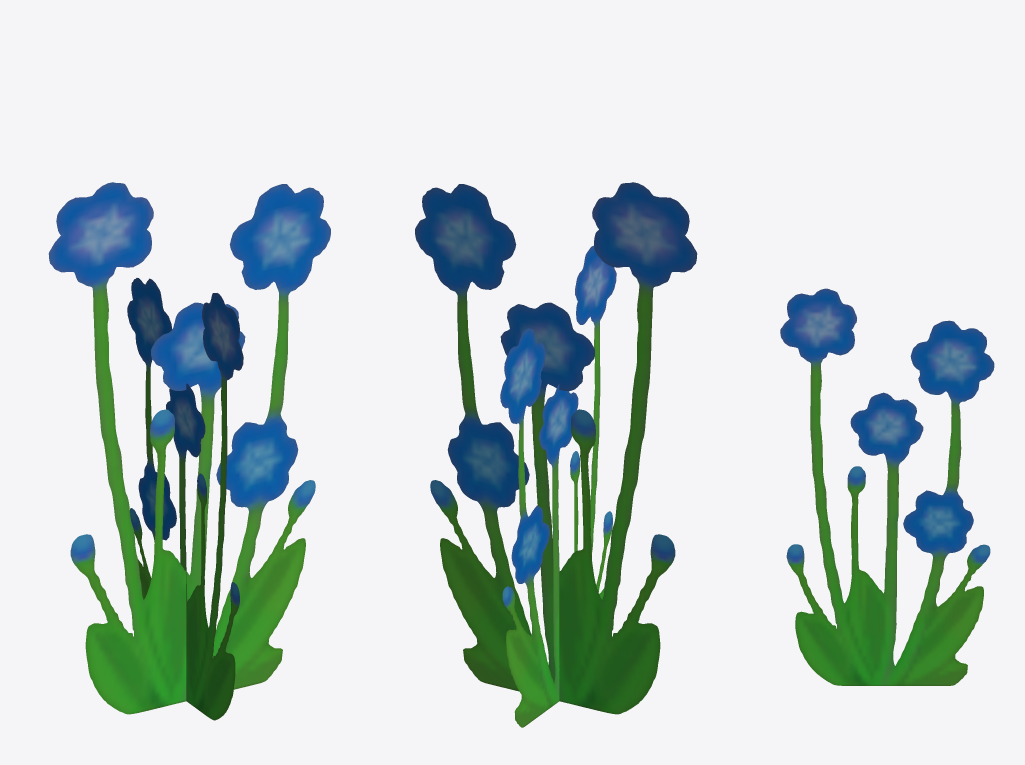
The model's file is Flower02_b01.FBX.
3 views of the same model, side by side, from view 1: azimuth 30°, elevation 25°; view 2: azimuth 150°, elevation 25°; view 3: azimuth 270°, elevation 25° (orthographic). The views are drawn at different scales.
Parts seen in each view (by area): view 1: Flower02_b01; view 2: Flower02_b01; view 3: Flower02_b01.
Boxes of the visible parts, left/top/right/bottom form: Flower02_b01: left=48, top=182, right=330, bottom=720; Flower02_b01: left=415, top=182, right=697, bottom=727; Flower02_b01: left=780, top=288, right=994, bottom=685.
Bounding box in the file's own units: 47.09 × 84.26 × 32.12.
1 material, 1 textured.
